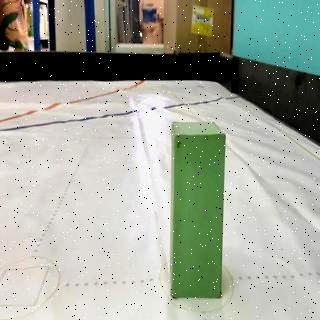greenbox: (170, 120, 226, 300)
